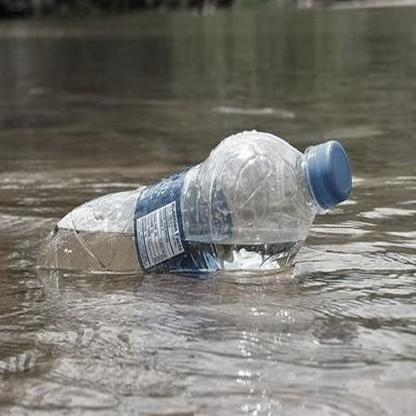plastic bottle: (55, 130, 353, 244)
